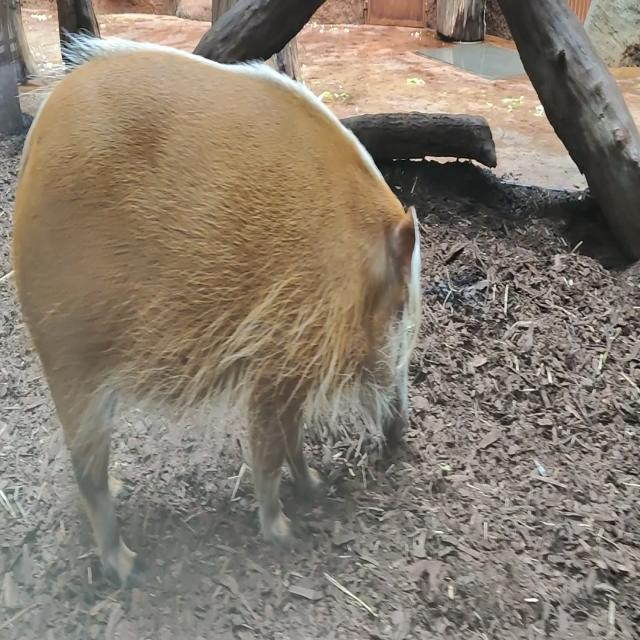boar: (14, 28, 421, 574)
